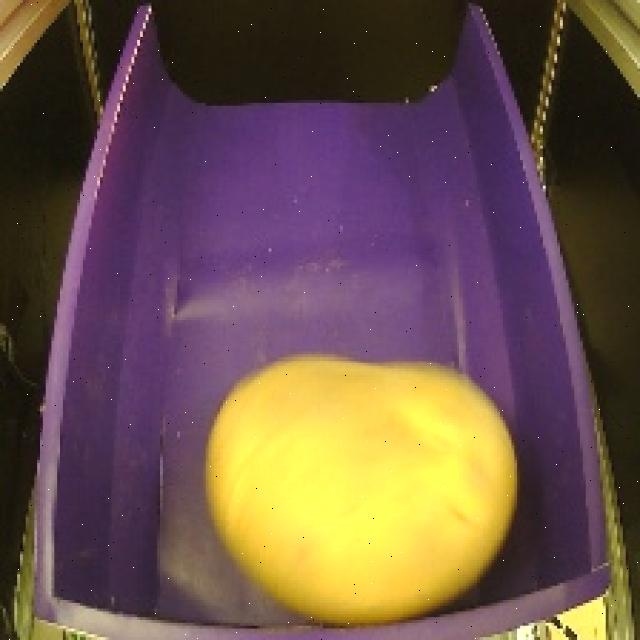full_potato: (196, 341, 524, 627)
